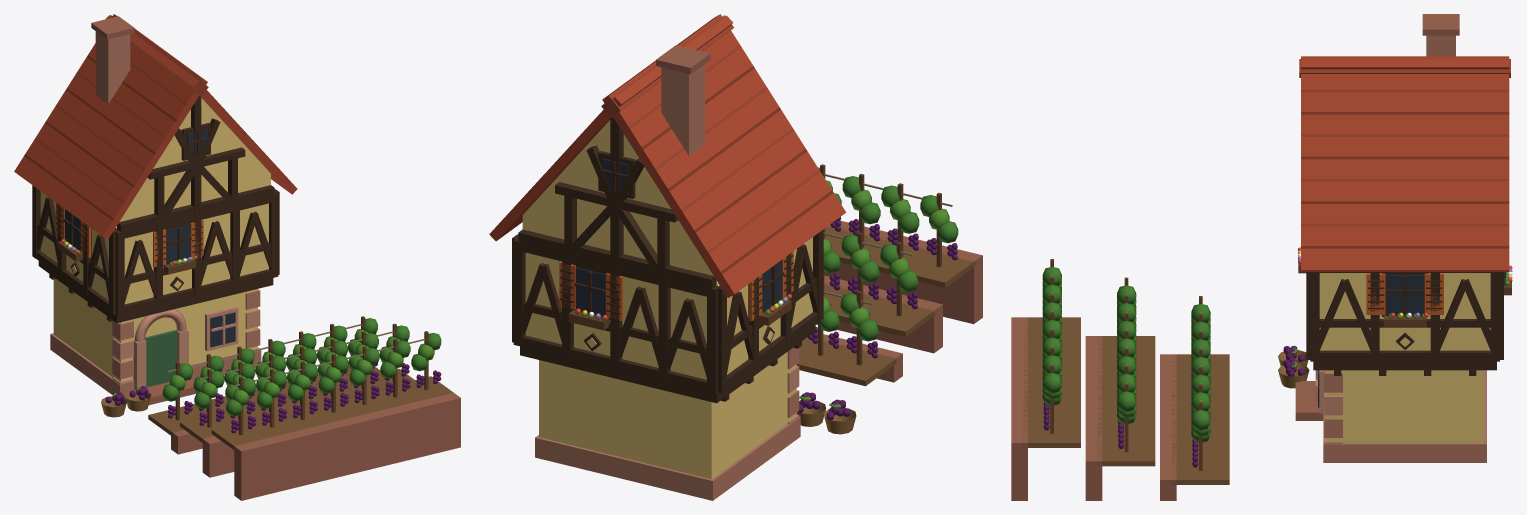
File: winzer.glb
3 renders of one model, left to right at view 1: azimuth 30°, elevation 25°; view 2: azimuth 150°, elevation 25°; view 3: azimuth 270°, elevation 25°, orthographic. The views are drawn at different scales.
Bounding box in the file's own units: 3.46 × 4.57 × 5.4.
